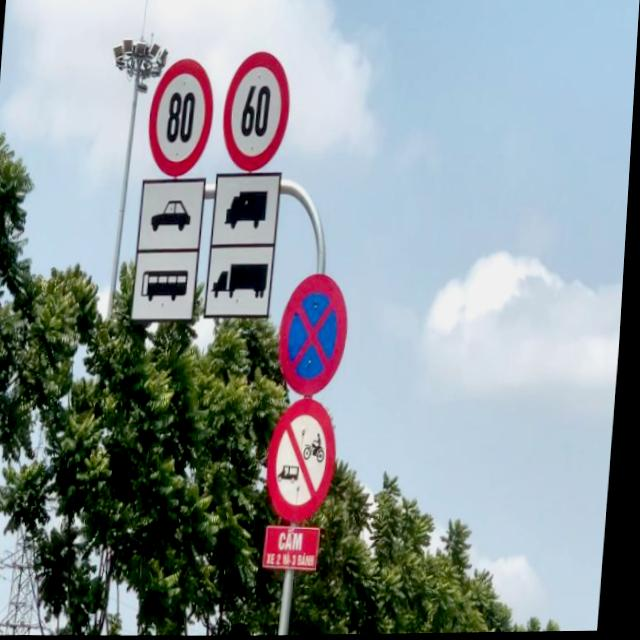Cam dung xe va do xe: (277, 267, 358, 399)
Toc do toi da cho phep: (224, 53, 292, 168), (147, 61, 217, 172)
